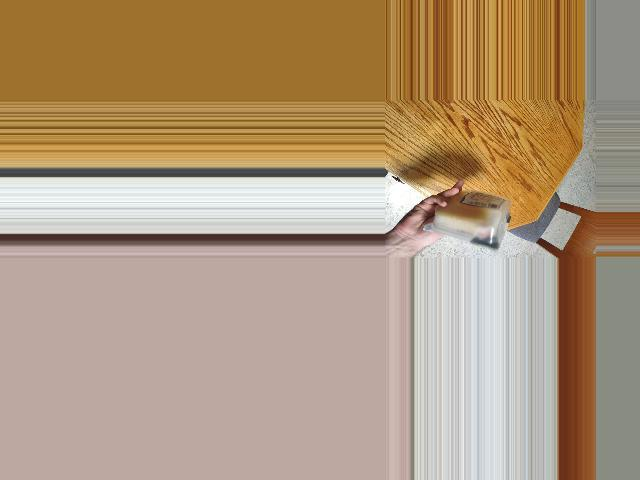cheese: (431, 187, 513, 248)
